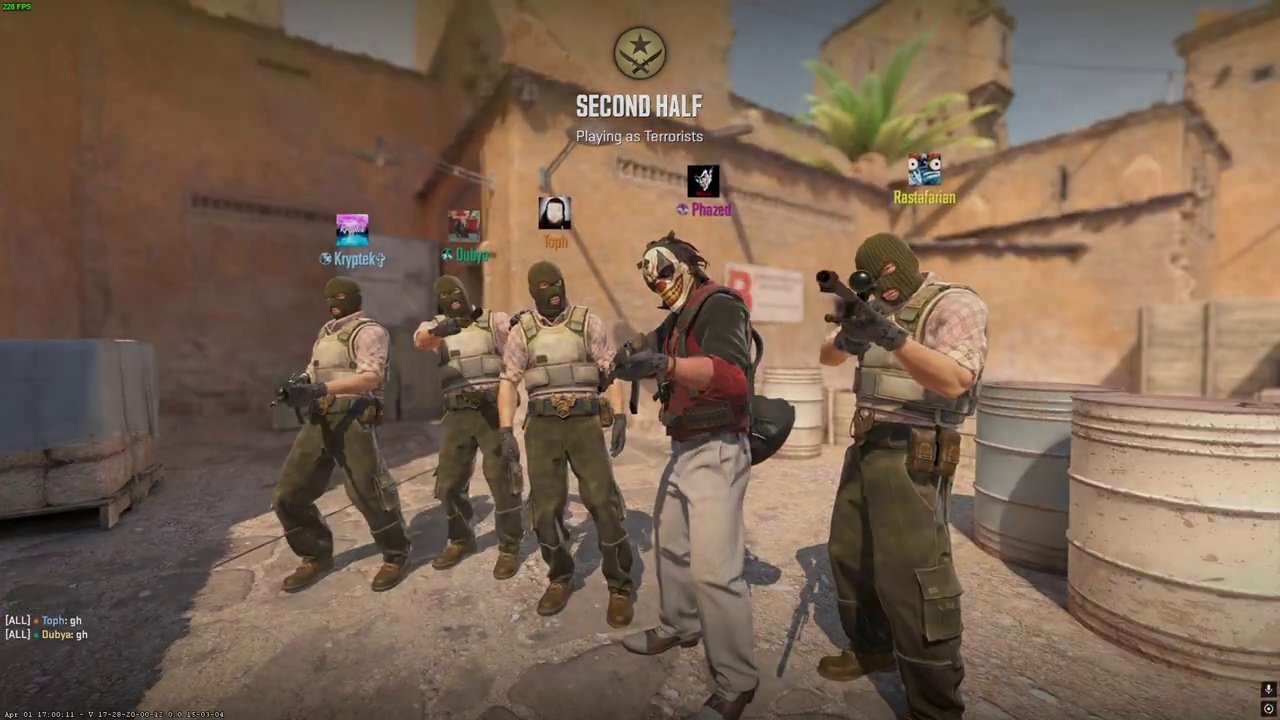Terrorist: (804, 232, 1003, 720), (622, 235, 788, 720), (506, 260, 640, 632), (267, 277, 411, 594), (417, 272, 525, 583)
